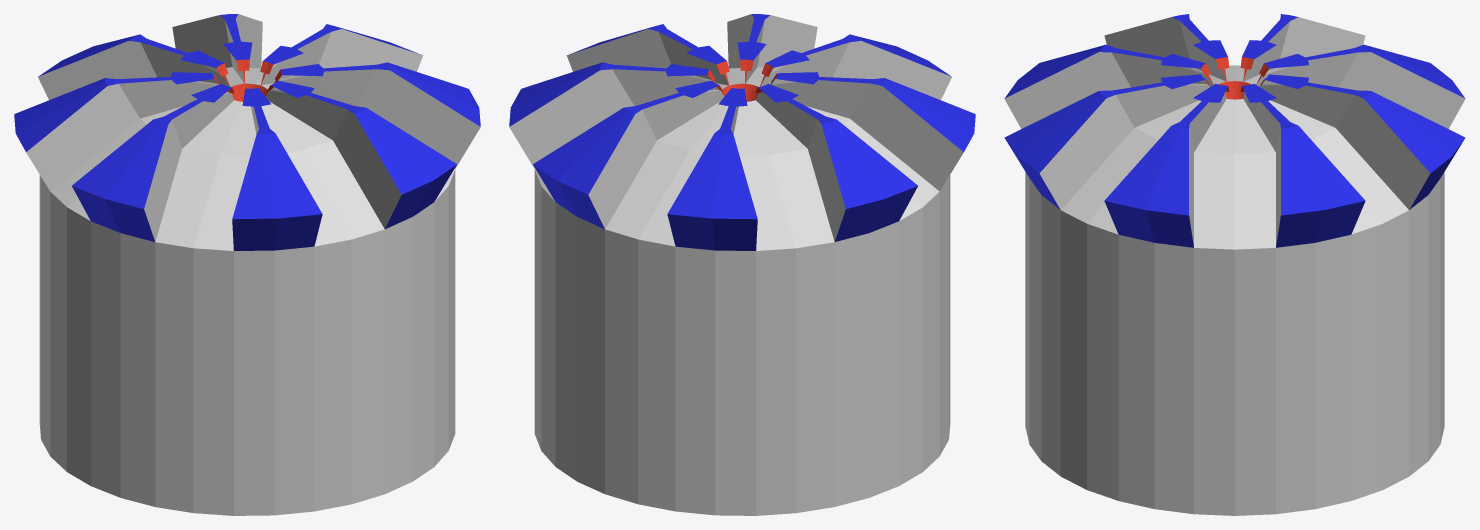
3 views of the same model, side by side, from view 1: azimuth 30°, elevation 25°; view 2: azimuth 150°, elevation 25°; view 3: azimuth 270°, elevation 25° (orthographic).
Visible parts, largest first — view 1: Cube; view 2: Cube; view 3: Cube.
Part boxes in pixels (x1,y1,x2,y2): Cube: (14, 14, 480, 515); Cube: (509, 14, 975, 515); Cube: (1004, 14, 1465, 515).
Size of the model in its own units: 743 by 632 by 743.
